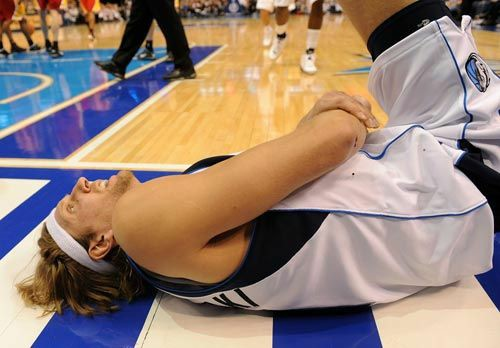10+: (1, 1, 500, 318)
down: (35, 1, 500, 313)
